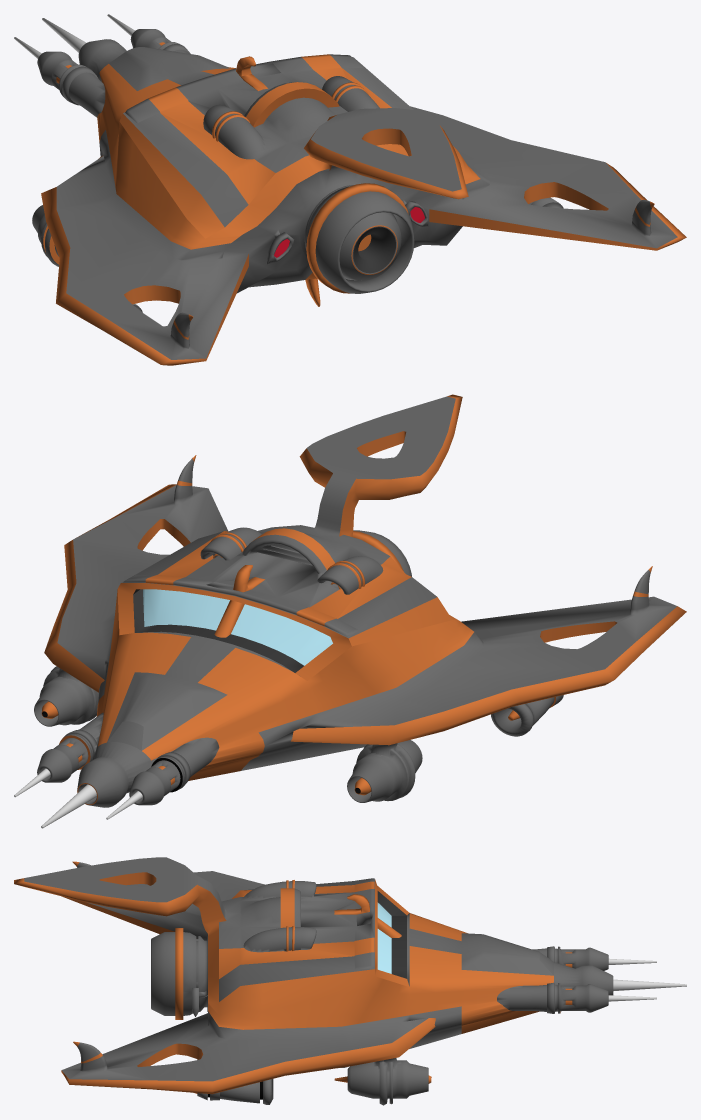
Rendered from Low-Poly-Spaceship.dae.
The picture shows the model from 3 angles, top to bottom: view 1: azimuth 30°, elevation 25°; view 2: azimuth 150°, elevation 25°; view 3: azimuth 270°, elevation 25°; orthographic projection. The views are drawn at different scales.
Visible parts, largest first — view 1: Cube_003; view 2: Cube_003; view 3: Cube_003.
Part boxes in pixels (x1,y1,x2,y2): Cube_003: [14, 14, 686, 365]; Cube_003: [14, 394, 686, 828]; Cube_003: [14, 857, 686, 1105].
Bounding box in the file's own units: 36.34 × 47.47 × 13.57.
